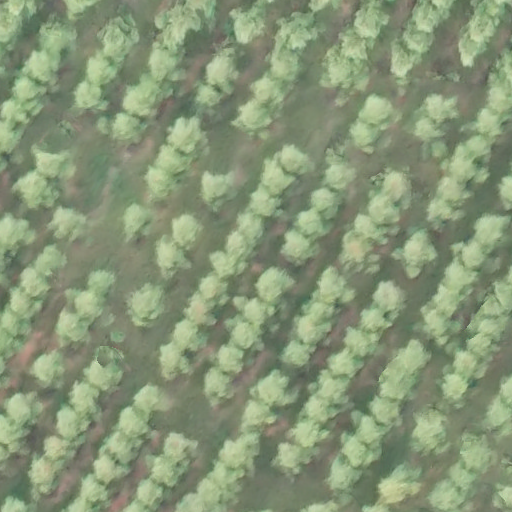eucalipto: (153, 1, 203, 50), (272, 10, 323, 52), (311, 264, 357, 310), (123, 282, 167, 330), (397, 227, 438, 277), (83, 347, 123, 396), (324, 50, 369, 93), (120, 79, 164, 122), (98, 11, 138, 58), (251, 265, 296, 306), (198, 169, 237, 214), (250, 367, 295, 406), (223, 8, 264, 50), (38, 15, 78, 58), (52, 310, 92, 353), (110, 405, 155, 443), (411, 405, 447, 451), (13, 176, 60, 211), (151, 236, 192, 276), (458, 432, 495, 476), (449, 32, 489, 72), (33, 146, 76, 183), (234, 100, 275, 138), (241, 181, 283, 218), (142, 165, 181, 204), (259, 160, 298, 199), (167, 116, 207, 154), (336, 24, 376, 62), (202, 53, 239, 94), (322, 344, 364, 380), (65, 378, 103, 417), (3, 393, 44, 429), (341, 227, 379, 265), (150, 343, 189, 380), (31, 350, 67, 390), (23, 460, 64, 495), (237, 402, 280, 435), (147, 46, 185, 83), (209, 245, 246, 283), (280, 231, 319, 267), (340, 326, 379, 362), (49, 208, 89, 243), (152, 144, 193, 178), (170, 213, 203, 255), (52, 408, 94, 441), (69, 289, 106, 326), (423, 196, 460, 233), (248, 72, 284, 110), (351, 6, 389, 42), (161, 427, 197, 465), (376, 167, 411, 206), (355, 95, 399, 126), (288, 417, 328, 451), (366, 192, 402, 229), (435, 177, 474, 211), (83, 267, 119, 303), (271, 445, 307, 481), (423, 91, 461, 125), (429, 482, 472, 512), (265, 51, 304, 84), (314, 370, 353, 403), (444, 154, 488, 183), (22, 50, 58, 85), (345, 120, 381, 155), (1, 216, 35, 253), (231, 209, 264, 247), (321, 159, 359, 192), (339, 439, 379, 470), (108, 112, 143, 147), (7, 285, 42, 320), (223, 434, 258, 469), (223, 232, 259, 266), (201, 369, 235, 405), (371, 281, 408, 314), (429, 285, 466, 318), (420, 312, 457, 345), (295, 313, 333, 345), (377, 473, 417, 503), (385, 43, 420, 77), (119, 202, 152, 238), (174, 320, 207, 356), (474, 215, 507, 251), (449, 350, 485, 383), (400, 21, 437, 53), (351, 213, 388, 245), (42, 435, 80, 466), (277, 142, 308, 180), (412, 1, 450, 32), (302, 393, 340, 424), (184, 293, 218, 327), (354, 307, 392, 337), (379, 370, 418, 399), (197, 272, 231, 305), (240, 296, 274, 329), (398, 338, 431, 372), (309, 185, 344, 217), (213, 342, 245, 377), (89, 457, 130, 484), (82, 57, 121, 85), (279, 337, 314, 368), (1, 418, 28, 458), (109, 431, 143, 462), (464, 11, 498, 42), (327, 460, 361, 491), (442, 263, 477, 293), (133, 385, 162, 421), (371, 394, 400, 430), (35, 246, 68, 277), (1, 307, 31, 341), (355, 416, 385, 450), (76, 481, 110, 510), (72, 84, 107, 112), (462, 135, 499, 161), (228, 322, 260, 352), (148, 457, 180, 487), (473, 108, 505, 138), (1, 99, 37, 125), (192, 85, 223, 115), (438, 373, 468, 404), (465, 334, 500, 360), (448, 464, 478, 494), (135, 480, 164, 511), (18, 270, 52, 296), (294, 210, 325, 238), (9, 76, 43, 101), (209, 466, 240, 493), (459, 242, 490, 269), (412, 119, 441, 147), (195, 483, 225, 507), (491, 83, 512, 117), (497, 174, 512, 212), (1, 127, 22, 152), (497, 375, 512, 410)
